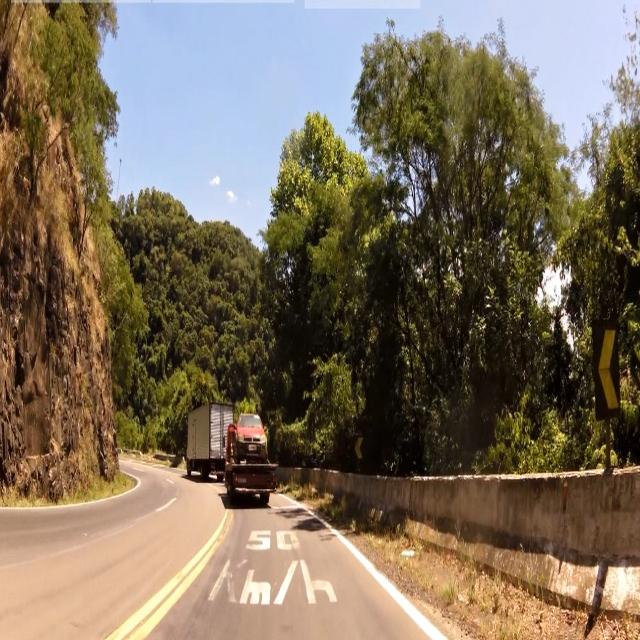Del: (590, 315, 627, 420), (352, 430, 366, 464)
